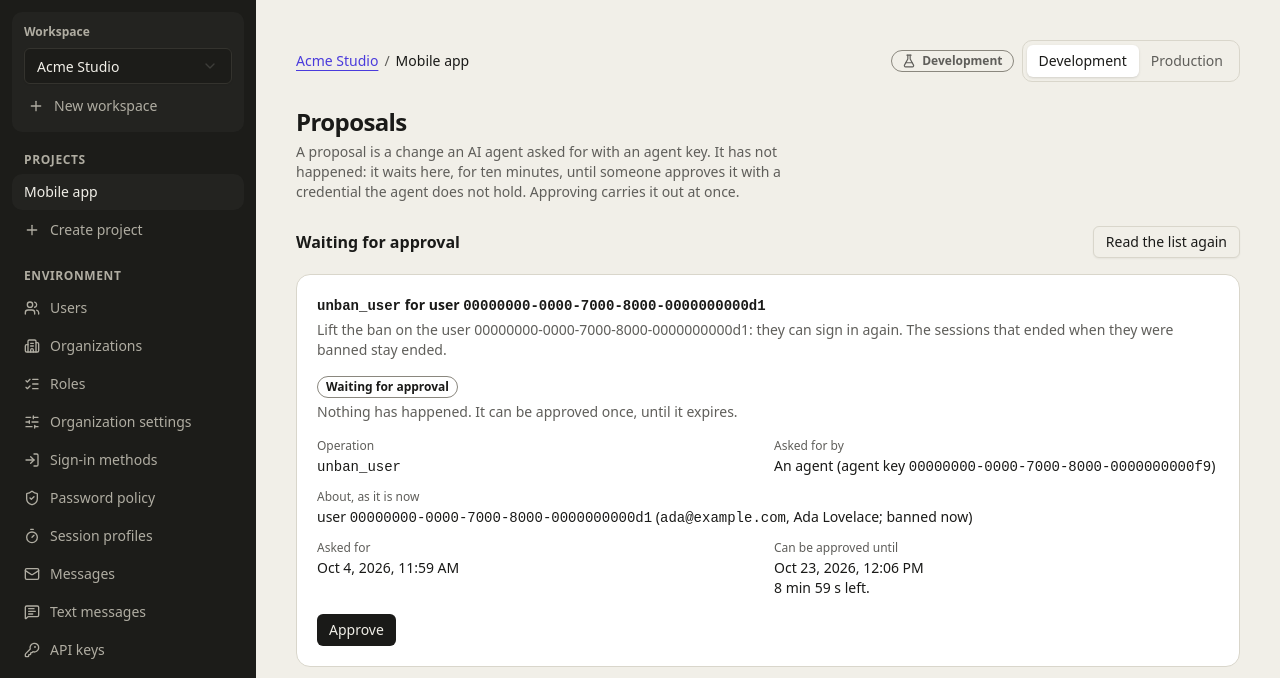
Scenario: approving › unban_user: the question names it, and what is sent is the operation and the target that were shown
The image size is (1280, 678).
Expected: the number of elements with test id "proposal" is 1, [296,274,1240,667]
What coordinates should you click on to do the following:
click the button "Approve"
I would click on:
 (356, 630)
Its box is [317,614,396,646].
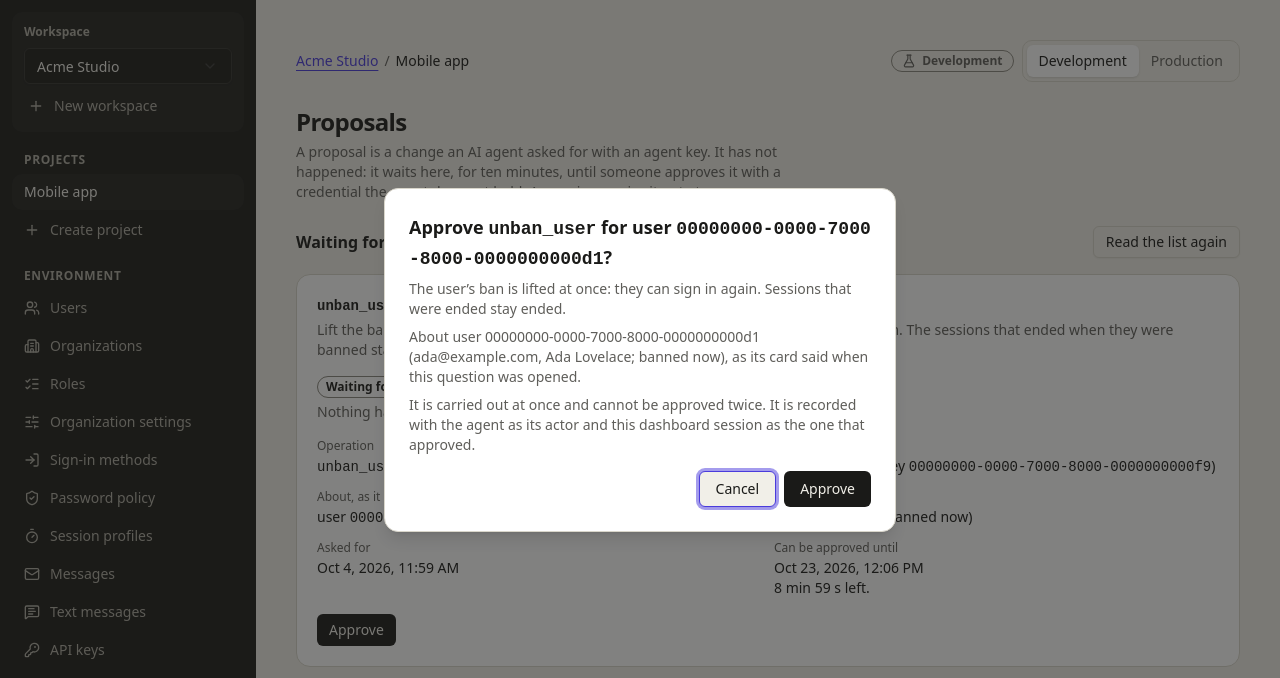
Now the text with test id "approve-consequence" shows "The user’s ban is lifted at once: they can sign in again. Sessions that were ended stay ended.", box [409,279,851,318]
What coordinates should you click on to do the following:
click the button "Approve"
I would click on:
 (828, 489)
Its box is [784,471,871,507].
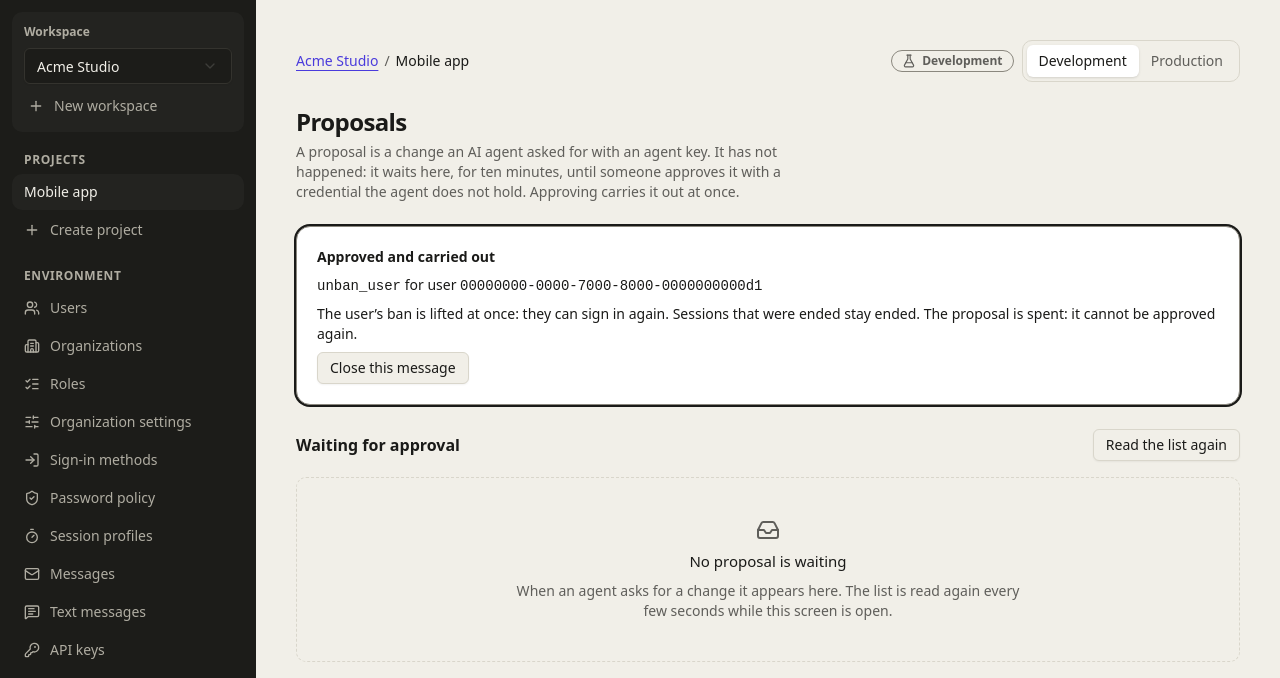
Now the message with test id "approval-result" shows "Approved and carried out", box [317,247,495,266]
Now the text "No proposal is waiting" is shown, box [690,550,847,572]
What coordinates should you click on to do the following:
click the button "Close this message"
I would click on:
 (393, 368)
Its box is [317,352,469,384].
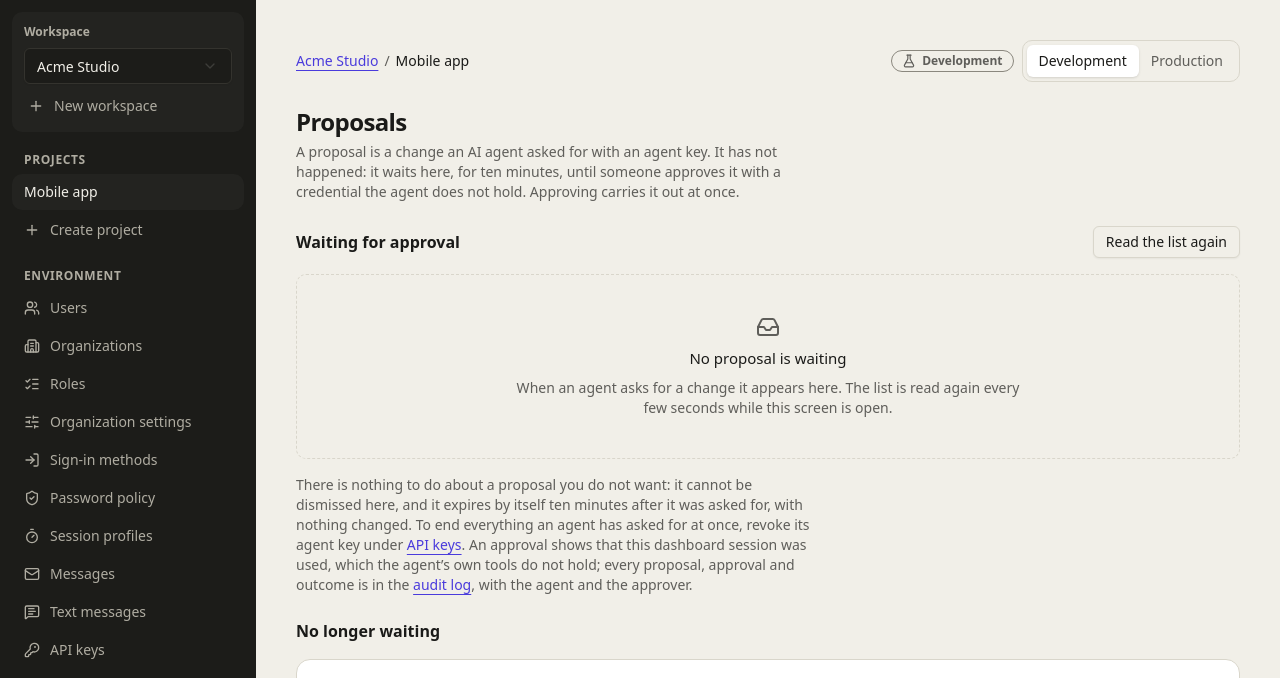
Now no messages with test id "approval-result" are shown
